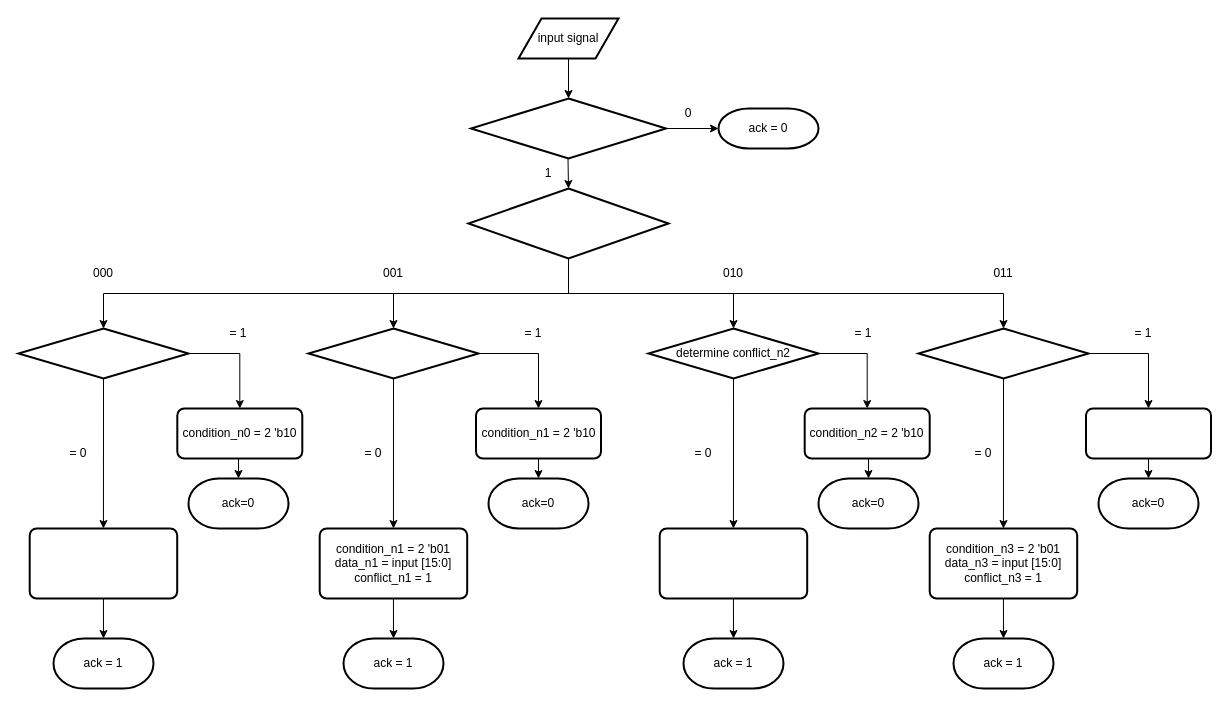
Some shapes in this 1229 by 706 pixel diagram are drawn without their labels. Here are the shapes that lost their labels. From the top down, the box of each, then its label:
(470, 97, 666, 159): the first bit of input is 1/0?
(467, 187, 669, 259): delivery input [18:16] into case
(17, 327, 189, 379): determine conflict_n0
(307, 327, 479, 379): determine conflict_n1
(917, 327, 1089, 379): determine conflict_n3
(1084, 407, 1212, 459): condition_n3 = 2 'b10
(28, 527, 178, 599): condition_n0 = 2 'b01 data_n0 = input [15:0] conflict_n0 = 1
(658, 527, 808, 599): condition_n2 = 2 'b01 data_n2 = input [15:0] conflict_n2 = 1
